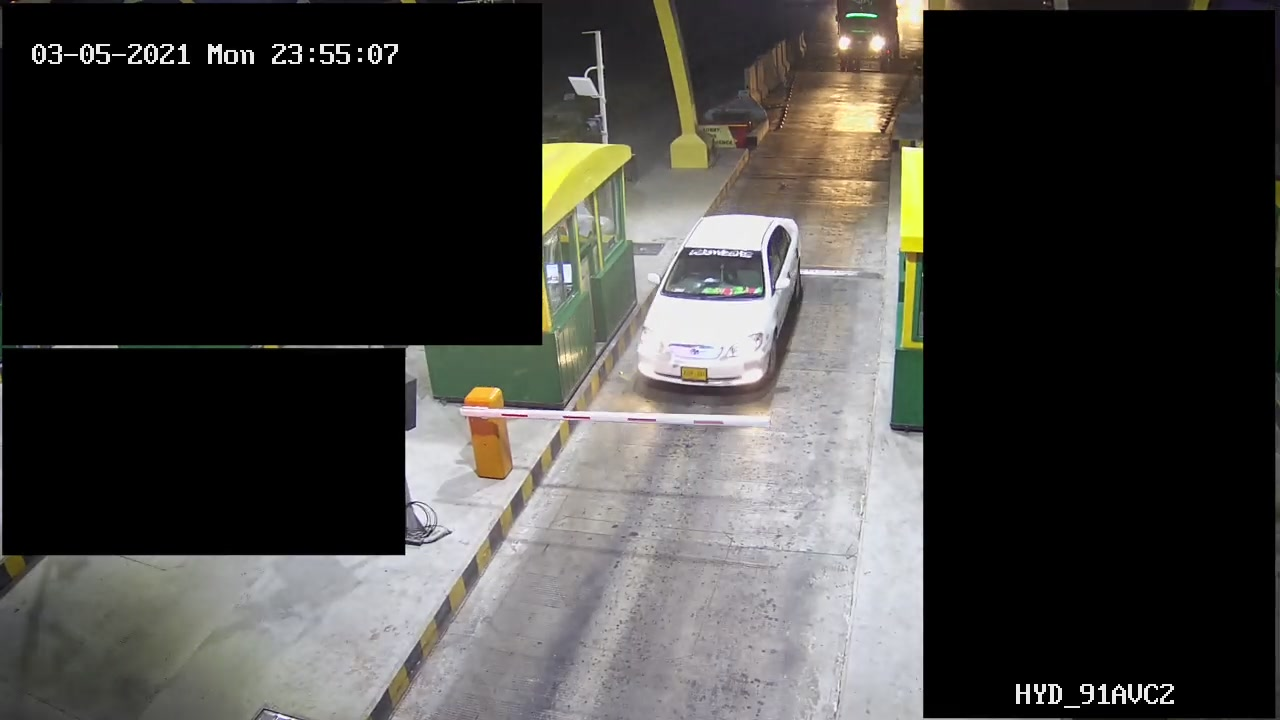F1: (626, 205, 808, 398)
